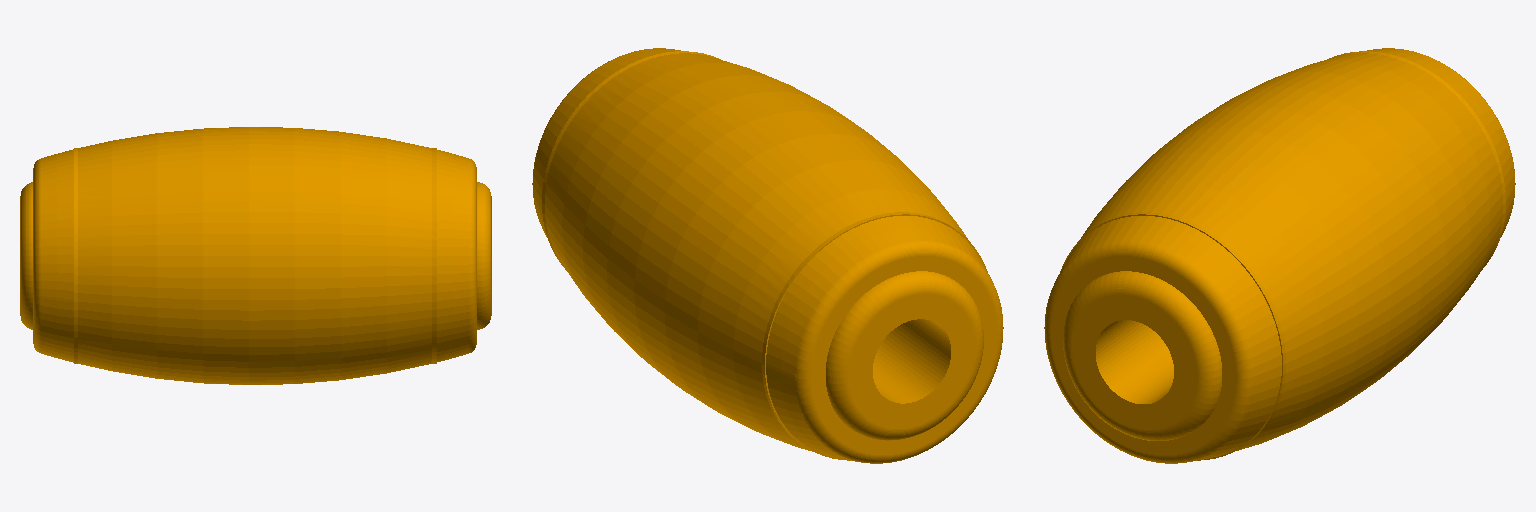
URDF robot description (ballbot):
<?xml version="1.0"?>
  <robot xmlns:xacro="http://www.ros.org/wiki/xacro"
         xmlns:controller="http://playerstage.sourceforge.net/gazebo/xmlschema/#controller"
         xmlns:interface="http://ros.org/wiki/xacro"
         xmlns:sensor="http://playerstage.sourceforge.net/gazebo/xmlschema/#sensor" name="ballbot">
<!-- 
<link name="wheel">
    <collision>
    <origin xyz="0 0 0" rpy="0 0 0"/>
      <geometry>
        <mesh filename="package://omni_bot/src/main_frame.stl" scale="1 1 1"/>
      </geometry>      
    </collision>
    <visual>
    <origin xyz="0 0 0" rpy="0 0 0"/>
      <geometry>
        <mesh filename="package://omni_bot/src/main_frame.stl" scale="1 1 1"/>
      </geometry>
    </visual>
    <inertial>
      <origin xyz="0 0 0" rpy="0 0 0"/>
      <mass value = "2.5"/>
      <inertia ixx="0.00108333333333" ixy="0" ixz="0" iyy="0.00108333333333" iyz="0" izz="0.002"/>
    </inertial>
  </link>
 -->
<link name="roller">
    <collision>
    <origin xyz="0.2 0 0" rpy="0 0 0"/>
      <geometry>
        <mesh filename="package://omni_bot/src/sub_wheel.stl" scale="1 1 1"/>
      </geometry>      
    </collision>
    <visual>
    <origin xyz="0.2 0 0" rpy="0 0 0"/>
      <geometry>
        <mesh filename="package://omni_bot/src/sub_wheel.stl" scale="1 1 1"/>
      </geometry>
    </visual>
    <inertial>
      <origin xyz="0.2 0 0" rpy="0 0 0"/>
      <mass value = "2.5"/>
      <inertia ixx="0.00108333333333" ixy="0" ixz="0" iyy="0.00108333333333" iyz="0" izz="0.002"/>
    </inertial>
    <!-- <gravity> 1 </gravity>
    <selfColli-->
</link>

</robot> 

--- Render facts (derived) ---
Views: 3 orthographic renders of the robot side by side, from view 1: azimuth 30°, elevation 25°; view 2: azimuth 150°, elevation 25°; view 3: azimuth 270°, elevation 25°.
Model ballbot with 1 links and 0 joints (none), rooted at roller, posed every joint at zero.
Visible links, largest first — view 1: roller; view 2: roller; view 3: roller.
Boxes of the visible links, x1,y1,x2,y2 form: roller: (20, 127, 491, 384); roller: (532, 48, 1003, 463); roller: (1044, 48, 1515, 463).
Bounding box of the posed robot: 0.0128 × 0.0104 × 0.007 m (x, y, z).
1 mesh visuals loaded from 1 distinct referenced files (1 binary STL).